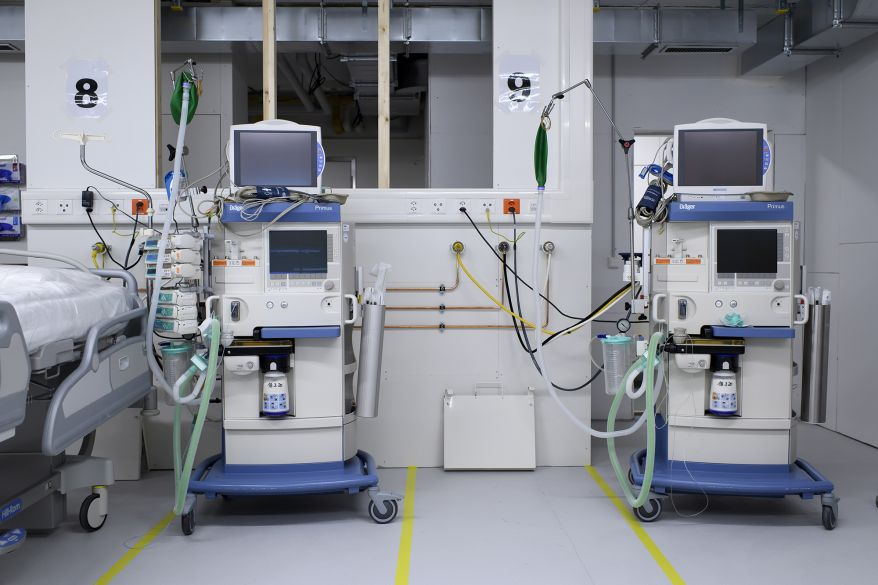bedrail: (42, 308, 158, 455), (1, 300, 30, 450)
bedside_monitor: (231, 129, 320, 189), (675, 129, 764, 189)
breathing_tube: (159, 313, 218, 518), (604, 310, 651, 510)
hospital_bed: (1, 248, 156, 557)
iv_pole: (143, 83, 213, 403), (172, 57, 206, 221)
syringe_pump: (153, 305, 199, 322), (153, 320, 199, 337), (153, 290, 199, 306), (143, 266, 209, 277), (143, 252, 209, 263), (143, 237, 209, 248)
ventilator: (601, 126, 793, 470), (186, 125, 351, 475)
